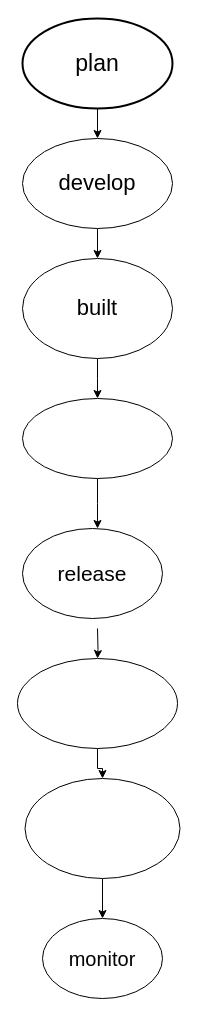
The diagram is 199 pixels wide and 1016 high, and some of its shapes have lost their labels. The shapes that lost their labels are listed below. From the top down, each one's centre as x and y in pixels, then its label:
[97,438]: test mode
[97,703]: deploy
[102,828]: operate
